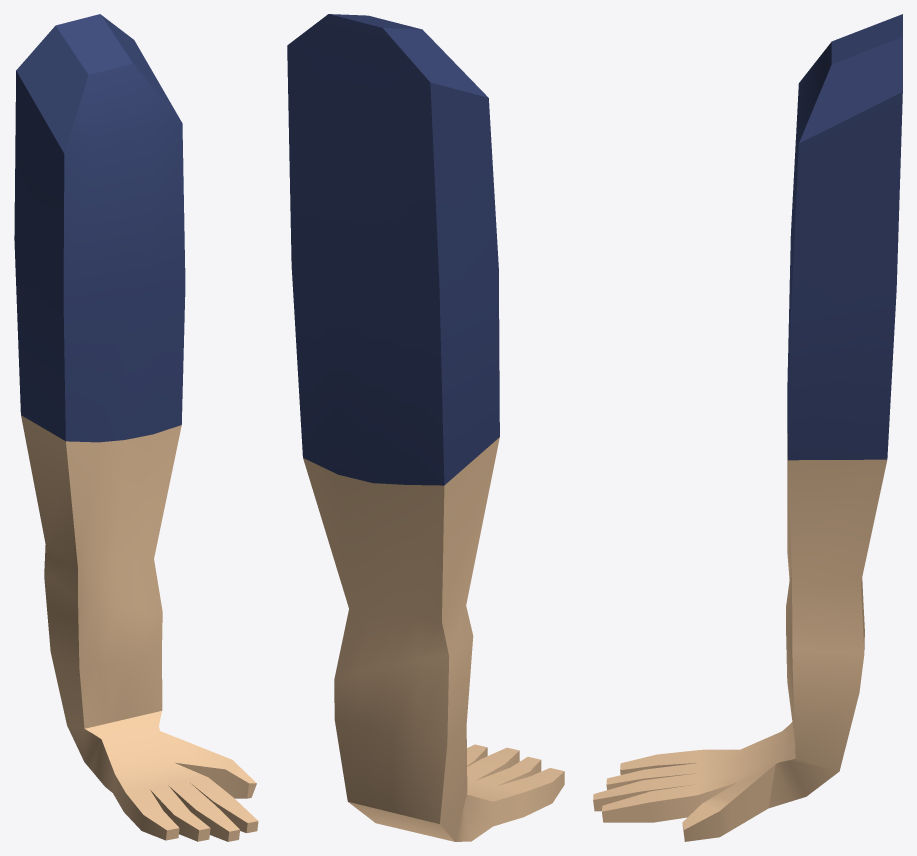
Rendered from arm90navyshort.fbx.
3 renders of one model, left to right at view 1: azimuth 30°, elevation 25°; view 2: azimuth 150°, elevation 25°; view 3: azimuth 270°, elevation 25°, orthographic. The views are drawn at different scales.
Visible parts, largest first — view 1: Arm90Longer; view 2: Arm90Longer; view 3: Arm90Longer.
Part boxes in pixels (x1=…): Arm90Longer: x1=14, y1=14, x2=258, y2=841; Arm90Longer: x1=287, y1=14, x2=564, y2=841; Arm90Longer: x1=593, y1=14, x2=902, y2=841.
Size of the model in its own units: 342 by 1645 by 592.
